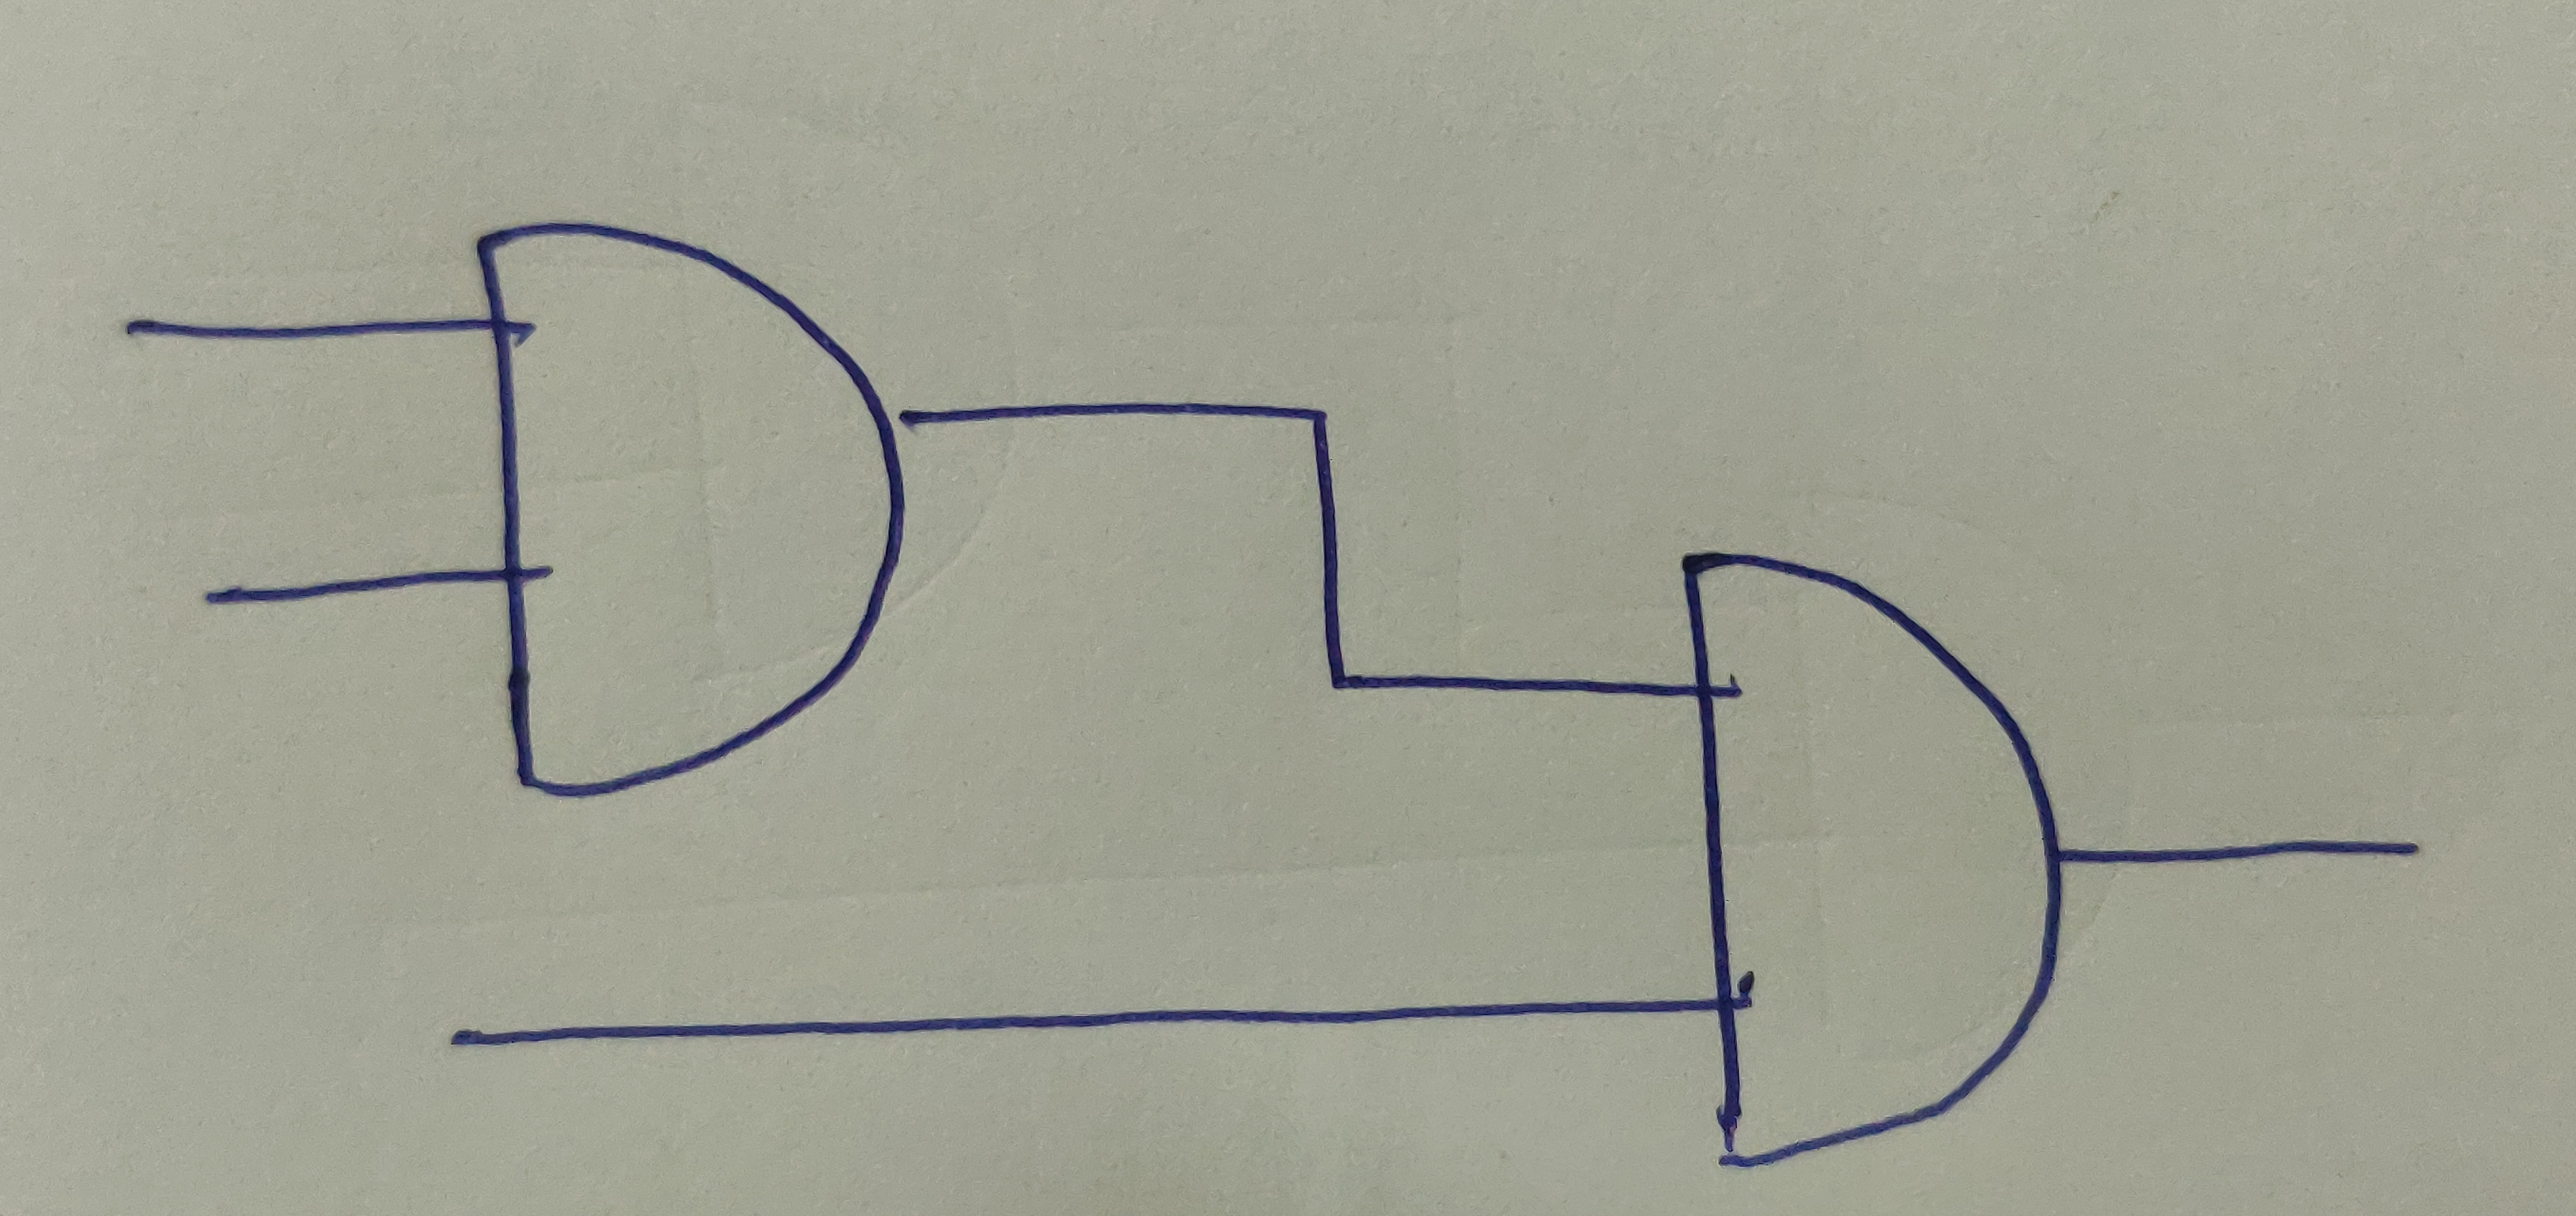and: (478, 222, 910, 799), (1674, 544, 2063, 1168)
